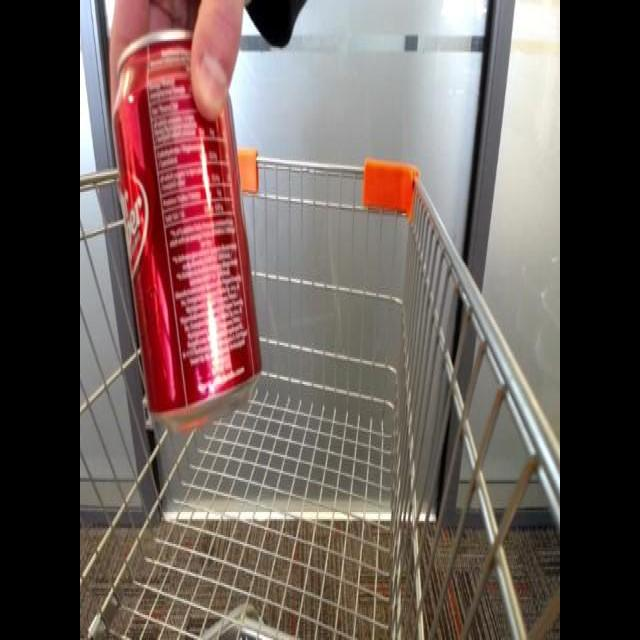Dr Pepper: (108, 21, 268, 434)
